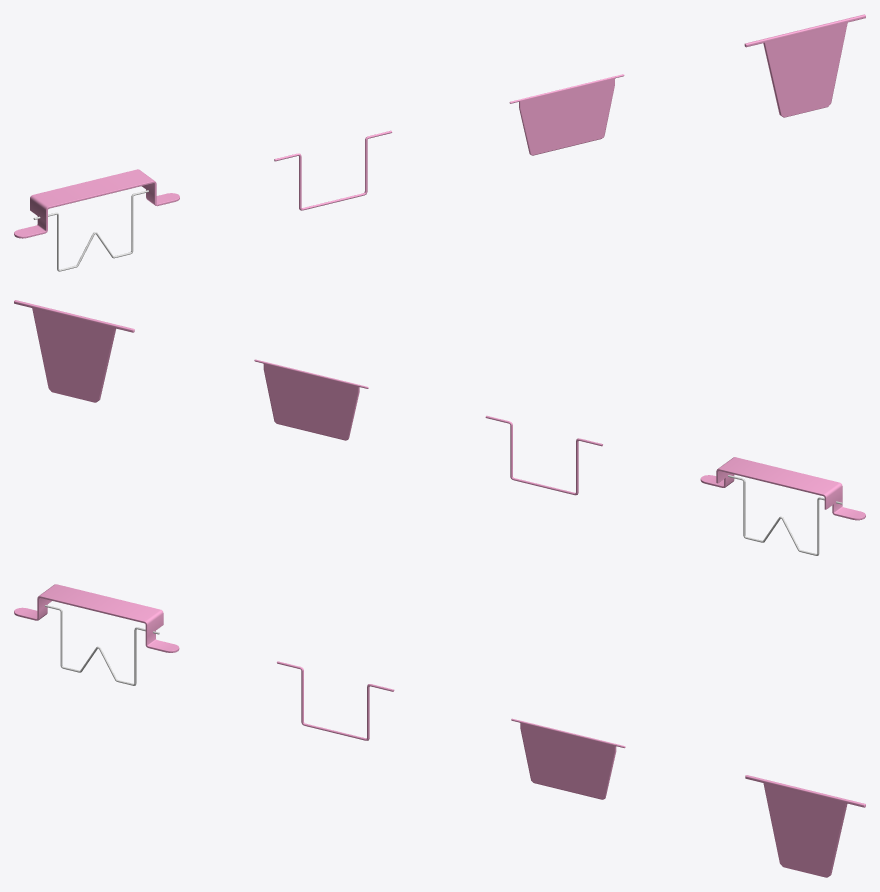
Rendered from Gates (VPX) - Hipoly.fbx.
3 renders of one model, top to bottom at view 1: azimuth 30°, elevation 25°; view 2: azimuth 150°, elevation 25°; view 3: azimuth 330°, elevation 25°, orthographic.
Parts seen in each view (by area): view 1: Gate.Long.PlateWire.Hipoly, Gate.PlateWire.Hipoly, Bracket.Hipoly, Gate.RectangleWire.Hipoly, Gate.WireW.Hipoly; view 2: Gate.Long.PlateWire.Hipoly, Gate.PlateWire.Hipoly, Bracket.Hipoly, Gate.WireW.Hipoly, Gate.RectangleWire.Hipoly; view 3: Gate.Long.PlateWire.Hipoly, Gate.PlateWire.Hipoly, Bracket.Hipoly, Gate.WireW.Hipoly, Gate.RectangleWire.Hipoly.
Part boxes in pixels (x1,y1,x2,y2): Gate.Long.PlateWire.Hipoly: (744, 14, 865, 117); Gate.PlateWire.Hipoly: (509, 74, 624, 155); Bracket.Hipoly: (14, 169, 179, 238); Gate.RectangleWire.Hipoly: (274, 130, 392, 210); Gate.WireW.Hipoly: (33, 190, 148, 271); Gate.Long.PlateWire.Hipoly: (14, 300, 134, 402); Gate.PlateWire.Hipoly: (254, 359, 368, 440); Bracket.Hipoly: (700, 457, 865, 520); Gate.WireW.Hipoly: (728, 475, 842, 555); Gate.RectangleWire.Hipoly: (485, 415, 602, 495); Gate.Long.PlateWire.Hipoly: (745, 775, 865, 877); Gate.PlateWire.Hipoly: (511, 718, 625, 799); Bracket.Hipoly: (14, 584, 179, 652); Gate.WireW.Hipoly: (45, 605, 159, 685); Gate.RectangleWire.Hipoly: (277, 661, 394, 740).
Bounding box in the file's own units: 28.99 × 3.12 × 0.9758.
